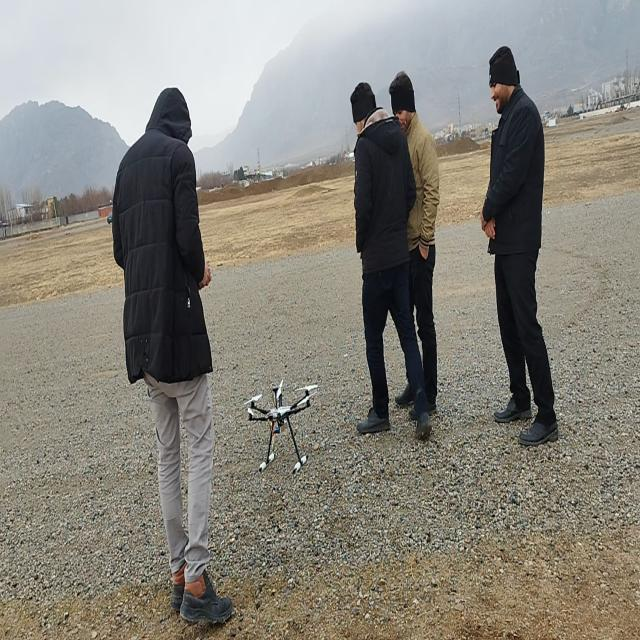drone: (244, 378, 319, 473)
